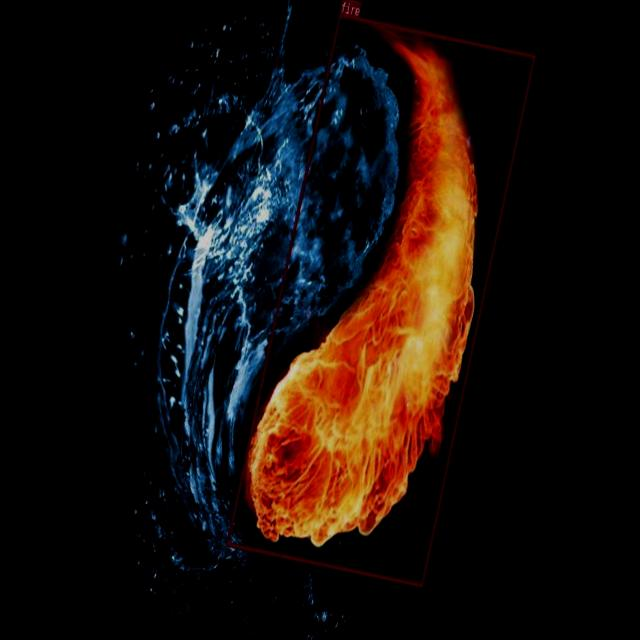fire: (225, 11, 536, 586)
